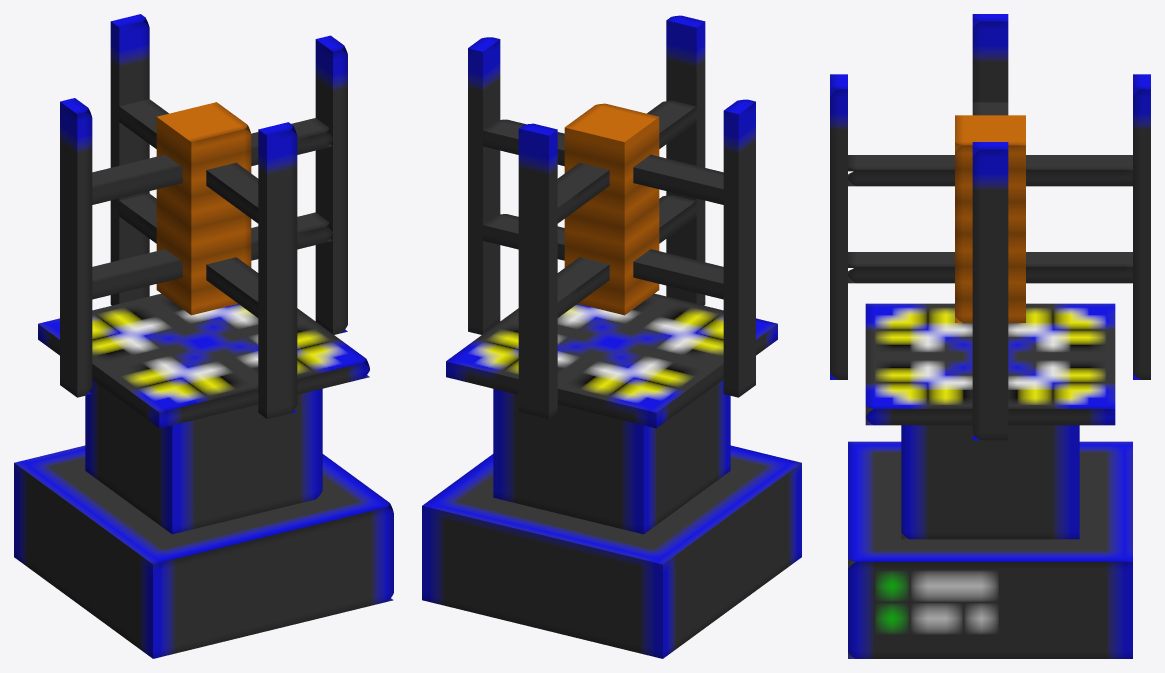
The model's file is emp_tower.obj.
3 renders of one model, left to right at view 1: azimuth 30°, elevation 25°; view 2: azimuth 150°, elevation 25°; view 3: azimuth 270°, elevation 25°, orthographic. The views are drawn at different scales.
Parts seen in each view (by area): view 1: Base, Support, Turret_Support, Main_Coil, Support_Beam_D1, Support_Beam_A1, Support_Beam_C1, Support_Beam_B1, Support_Beam_CA2, Support_Beam_CA1, Support_Beam_DB2, Support_Beam_DB1; view 2: Base, Support, Turret_Support, Main_Coil, Support_Beam_B1, Support_Beam_A1, Support_Beam_C1, Support_Beam_D1, Support_Beam_CA2, Support_Beam_CA1, Support_Beam_DB2, Support_Beam_DB1; view 3: Base, Turret_Support, Support, Support_Beam_C1, Main_Coil, Support_Beam_DB2, Support_Beam_DB1, Support_Beam_B1, Support_Beam_D1, Support_Beam_A1, Support_Beam_CA2.
Boxes of the visible parts, bbox=[...] form: Base: bbox=[14, 445, 393, 658]; Support: bbox=[85, 379, 322, 534]; Turret_Support: bbox=[38, 293, 369, 428]; Main_Coil: bbox=[156, 102, 251, 315]; Support_Beam_D1: bbox=[258, 122, 297, 418]; Support_Beam_A1: bbox=[60, 98, 92, 397]; Support_Beam_C1: bbox=[315, 35, 347, 334]; Support_Beam_B1: bbox=[110, 14, 149, 305]; Support_Beam_CA2: bbox=[92, 118, 332, 204]; Support_Beam_CA1: bbox=[92, 212, 332, 299]; Support_Beam_DB2: bbox=[119, 99, 258, 223]; Support_Beam_DB1: bbox=[119, 193, 258, 317]; Base: bbox=[422, 445, 801, 658]; Support: bbox=[493, 379, 730, 534]; Turret_Support: bbox=[446, 293, 777, 428]; Main_Coil: bbox=[564, 103, 659, 315]; Support_Beam_B1: bbox=[518, 123, 557, 418]; Support_Beam_A1: bbox=[723, 99, 755, 397]; Support_Beam_C1: bbox=[468, 37, 500, 334]; Support_Beam_D1: bbox=[666, 15, 705, 305]; Support_Beam_CA2: bbox=[483, 119, 723, 204]; Support_Beam_CA1: bbox=[483, 214, 723, 299]; Support_Beam_DB2: bbox=[557, 100, 696, 223]; Support_Beam_DB1: bbox=[557, 195, 696, 317]; Base: bbox=[848, 441, 1132, 658]; Turret_Support: bbox=[865, 303, 1115, 425]; Support: bbox=[901, 425, 1079, 539]; Support_Beam_C1: bbox=[972, 142, 1008, 440]; Main_Coil: bbox=[955, 115, 1025, 322]; Support_Beam_DB2: bbox=[848, 155, 1132, 186]; Support_Beam_DB1: bbox=[848, 252, 1132, 283]; Support_Beam_B1: bbox=[1133, 74, 1150, 379]; Support_Beam_D1: bbox=[830, 74, 847, 379]; Support_Beam_A1: bbox=[972, 14, 1008, 102]; Support_Beam_CA2: bbox=[972, 102, 1008, 115].
Bounding box in the file's own units: 1.12 × 2 × 1.12.
